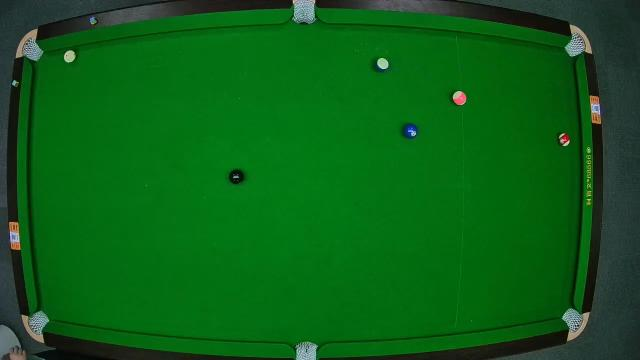bag1: (22, 38, 44, 60)
bag2: (291, 0, 317, 26)
bag3: (566, 29, 588, 57)
bag4: (29, 310, 49, 334)
bag5: (294, 340, 318, 360)
bag6: (563, 308, 585, 332)
ball0: (62, 48, 78, 64)
ball10: (374, 57, 390, 72)
ball11: (558, 132, 572, 146)
ball12: (452, 89, 468, 106)
ball2: (403, 124, 419, 140)
ball8: (229, 169, 243, 185)
